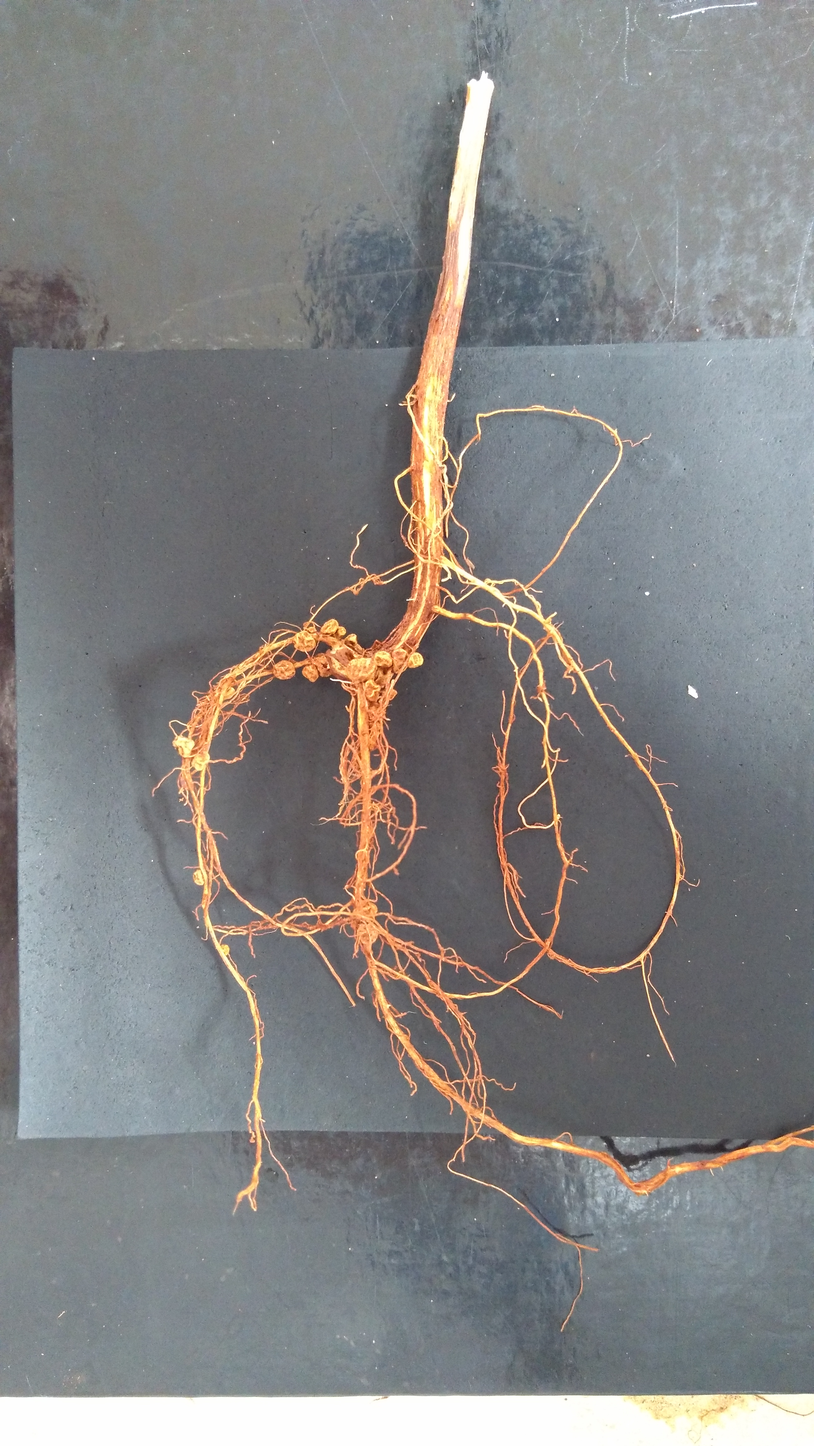nodule: (326, 648, 354, 682), (346, 657, 377, 682), (171, 735, 195, 758), (353, 901, 378, 923), (293, 631, 316, 652), (391, 648, 409, 674), (272, 660, 295, 680), (302, 656, 319, 683), (315, 652, 333, 677), (358, 923, 378, 945), (326, 626, 346, 647), (191, 750, 211, 771), (374, 667, 393, 689), (365, 678, 381, 703), (368, 701, 386, 721), (374, 651, 393, 668), (320, 619, 339, 636), (368, 729, 381, 751), (408, 652, 424, 668), (217, 686, 235, 700), (344, 633, 358, 647), (368, 720, 383, 733), (193, 869, 204, 886), (386, 687, 397, 700), (220, 944, 229, 956), (307, 626, 316, 633), (249, 1138, 256, 1144)
